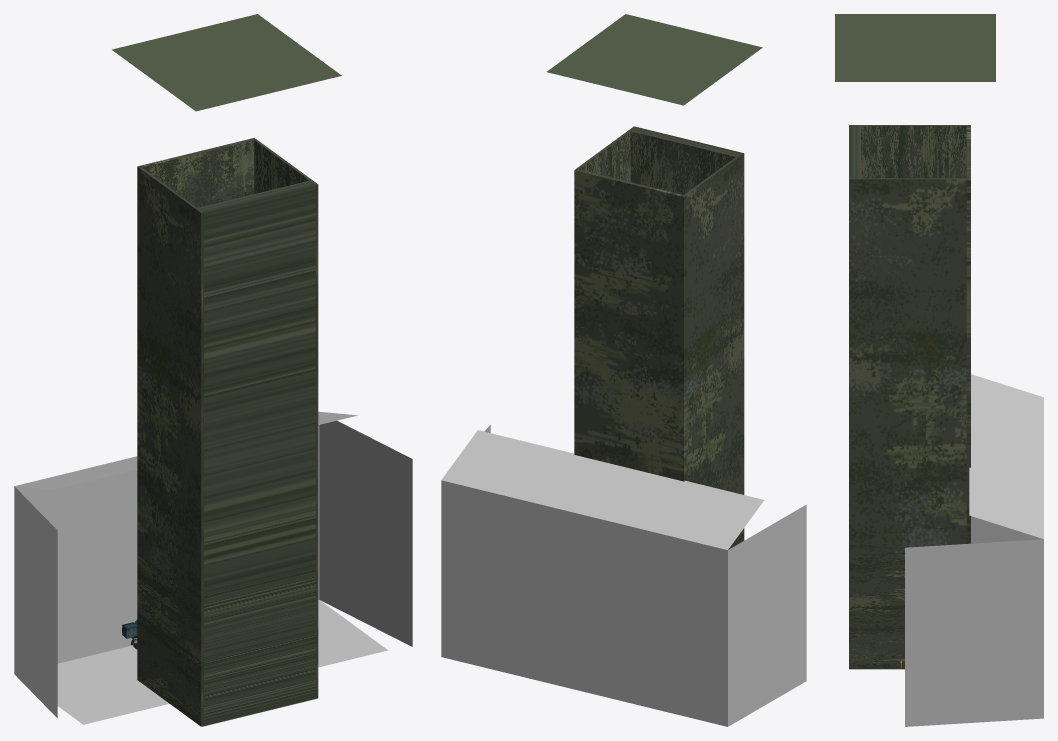
File: 超级微波炉场景.fbx
3 views of the same model, side by side, from view 1: azimuth 30°, elevation 25°; view 2: azimuth 150°, elevation 25°; view 3: azimuth 270°, elevation 25° (orthographic). The views are drawn at different scales.
Visible parts, largest first — view 1: 墙面.001, 窗外, 墙面, 天空; view 2: 窗外, 墙面.001, 天空; view 3: 墙面.001, 窗外, 天空, 墙面.
Boxes of the visible parts, x1,y1,x2,y2 form: 墙面.001: (137,138,318,594); 窗外: (14,411,412,724); 墙面: (137,548,318,726); 天空: (112,14,341,111); 窗外: (441,425,806,726); 墙面.001: (574,126,744,494); 天空: (547,14,762,105); 墙面.001: (849,125,970,543); 窗外: (905,374,1043,726); 天空: (835,14,995,81); 墙面: (849,543,967,669).
Bounding box in the file's own units: 5296 × 9656 × 16729.
